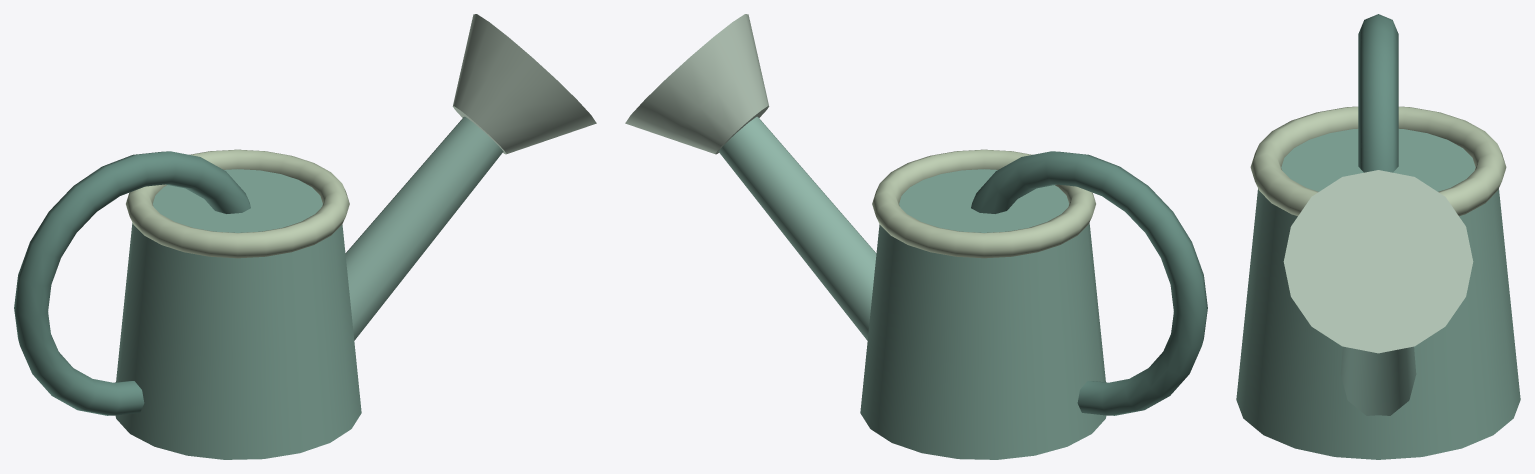
Rendered from watering_can.glb.
3 views of the same model, side by side, from view 1: azimuth 30°, elevation 25°; view 2: azimuth 150°, elevation 25°; view 3: azimuth 270°, elevation 25° (orthographic). The views are drawn at different scales.
Visible parts, largest first — view 1: CanBody, Handle, Spout, SprinklerRose, RolledRim; view 2: CanBody, Handle, Spout, SprinklerRose, RolledRim; view 3: CanBody, SprinklerRose, RolledRim, Handle, Spout.
Boxes of the visible parts, x1,y1,x2,y2 form: CanBody: (115,169,361,459); Handle: (14,151,250,415); Spout: (345,116,503,340); SprinklerRose: (452,14,596,154); RolledRim: (126,149,349,258); CanBody: (860,169,1106,459); Handle: (971,151,1207,415); Spout: (718,116,876,340); SprinklerRose: (625,14,769,154); RolledRim: (872,149,1095,258); CanBody: (1236,129,1520,459); SprinklerRose: (1283,170,1473,353); RolledRim: (1250,106,1506,216); Handle: (1358,14,1398,172); Spout: (1340,346,1416,415).
Bounding box in the file's own units: 1.26 × 0.6893 × 0.48.
